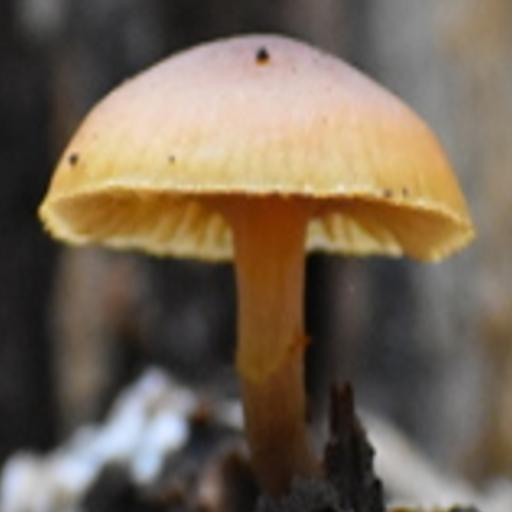mushroom: (40, 30, 477, 410)
